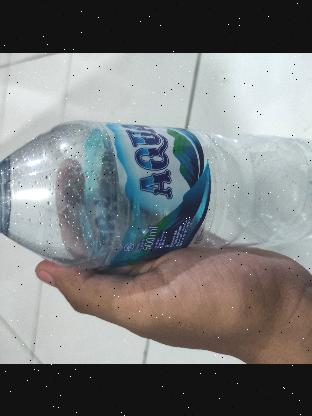Plastic Bottle: (0, 105, 312, 271)
